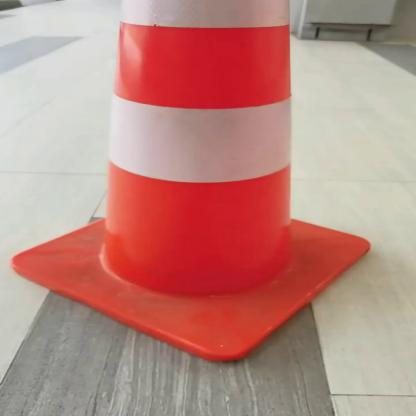cone: (9, 0, 385, 365)
